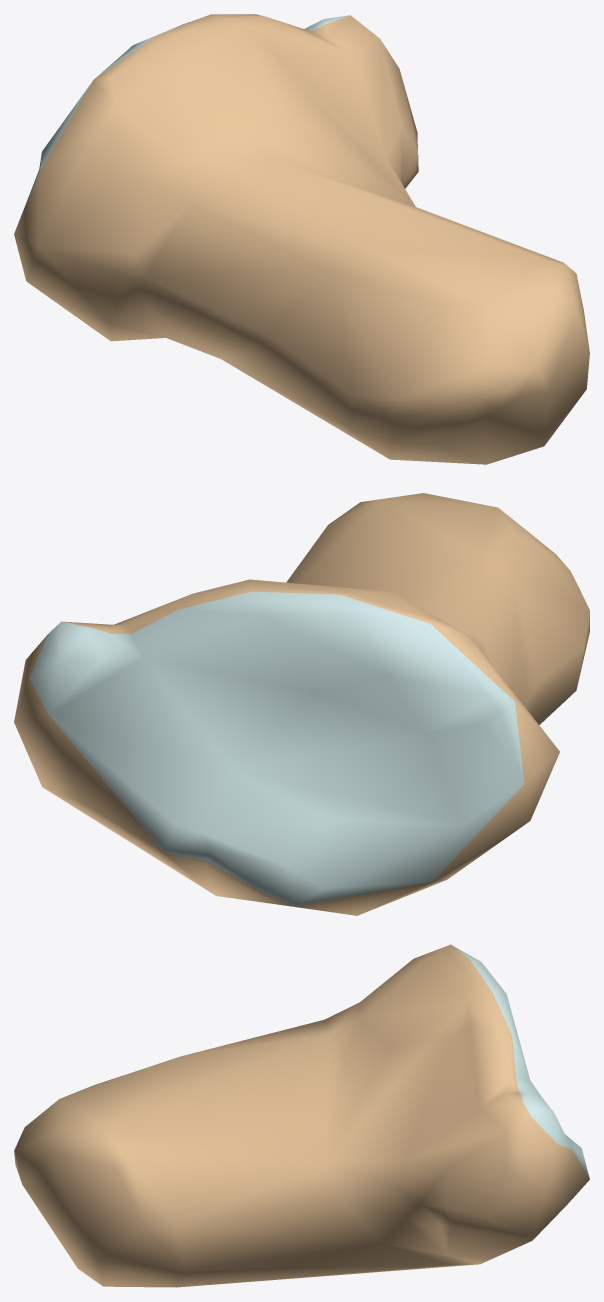
The model's file is Distal_phalanx_of_3rd_finger_of_foot.l_Generated_Mesh_From_X3D..glb.
The picture shows the model from 3 angles, top to bottom: view 1: azimuth 30°, elevation 25°; view 2: azimuth 150°, elevation 25°; view 3: azimuth 270°, elevation 25°; orthographic projection. The views are drawn at different scales.
Visible parts, largest first — view 1: Distal_phalanx_of_3rd_finger_of_foot.l_Generated_Mesh_From_X; view 2: Distal_phalanx_of_3rd_finger_of_foot.l_Generated_Mesh_From_X; view 3: Distal_phalanx_of_3rd_finger_of_foot.l_Generated_Mesh_From_X.
Boxes of the visible parts, x1,y1,x2,y2 form: Distal_phalanx_of_3rd_finger_of_foot.l_Generated_Mesh_From_X: [14, 14, 589, 464]; Distal_phalanx_of_3rd_finger_of_foot.l_Generated_Mesh_From_X: [14, 493, 589, 915]; Distal_phalanx_of_3rd_finger_of_foot.l_Generated_Mesh_From_X: [14, 944, 589, 1287].
Bounding box in the file's own units: 0.00885 × 0.00616 × 0.012.
